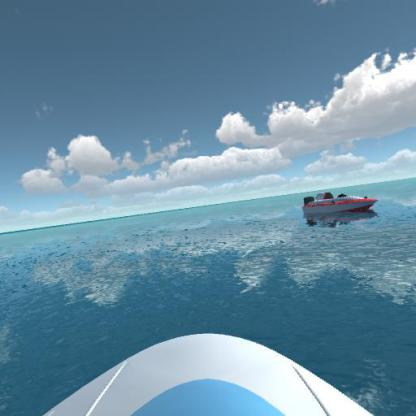usv1: (302, 185, 384, 224)
